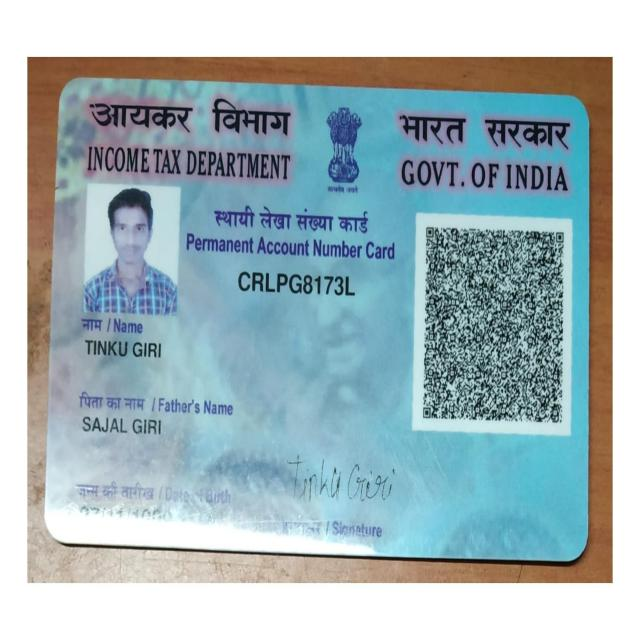pan_card: (49, 87, 583, 556)
